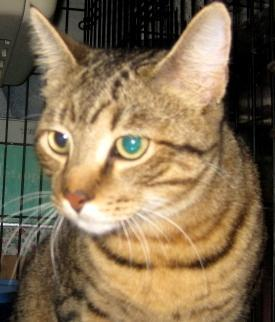bengal: (7, 1, 244, 236)
